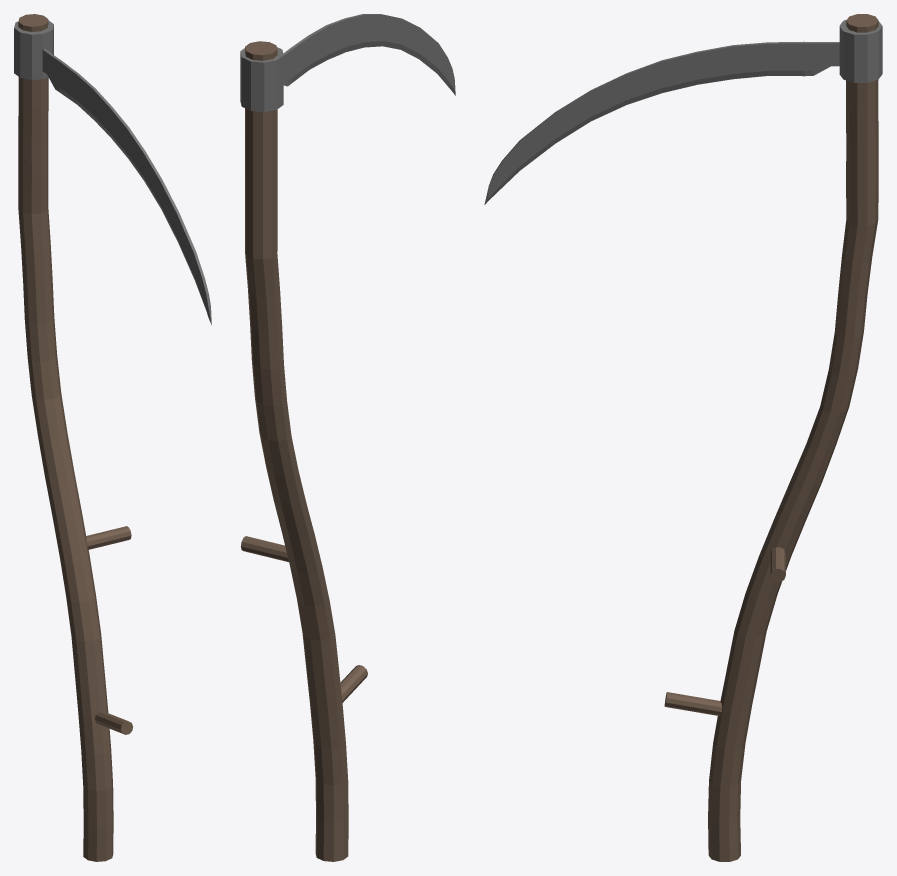
Rendered from Scythe 1.fbx.
The picture shows the model from 3 angles, left to right: view 1: azimuth 30°, elevation 25°; view 2: azimuth 150°, elevation 25°; view 3: azimuth 270°, elevation 25°; orthographic projection. The views are drawn at different scales.
Visible parts, largest first — view 1: Scythe; view 2: Scythe; view 3: Scythe.
Part boxes in pixels (left/top/right/bottom): Scythe: left=14, top=14, right=211, bottom=861; Scythe: left=240, top=14, right=455, bottom=861; Scythe: left=484, top=14, right=882, bottom=861.
Bounding box in the file's own units: 81.01 × 850 × 367.
